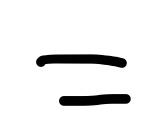eqv: (36, 55, 131, 106)
